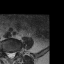CCS_normal: (10, 50, 12, 60)
LFS_severe_stenosis: (15, 48, 18, 55)
LLS_normal: (12, 50, 15, 59)
RFS_severe_stenosis: (3, 47, 7, 55)
RLS_normal: (7, 50, 10, 59)
